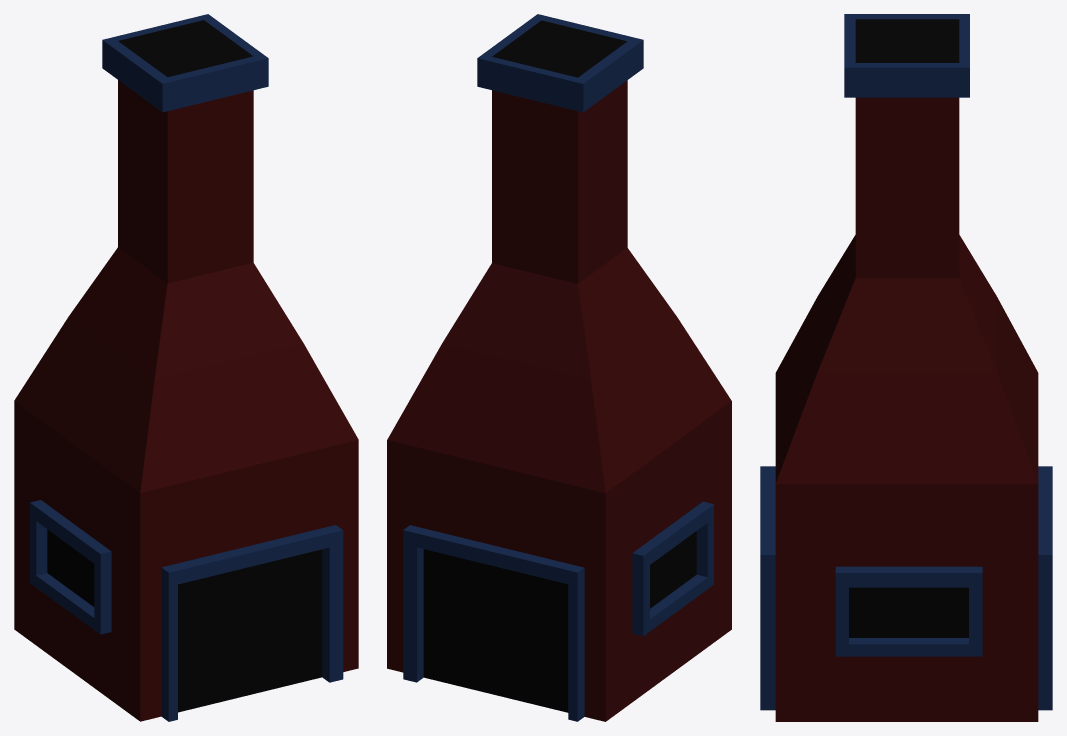
The model's file is ResourceBuilding3.FBX.
3 renders of one model, left to right at view 1: azimuth 30°, elevation 25°; view 2: azimuth 150°, elevation 25°; view 3: azimuth 270°, elevation 25°, orthographic. The views are drawn at different scales.
Visible parts, largest first — view 1: Box001; view 2: Box001; view 3: Box001.
Part boxes in pixels (bbox=[...]): Box001: bbox=[14, 14, 358, 721]; Box001: bbox=[387, 14, 731, 721]; Box001: bbox=[760, 14, 1052, 721].
Bounding box in the file's own units: 218 × 219 × 517.
